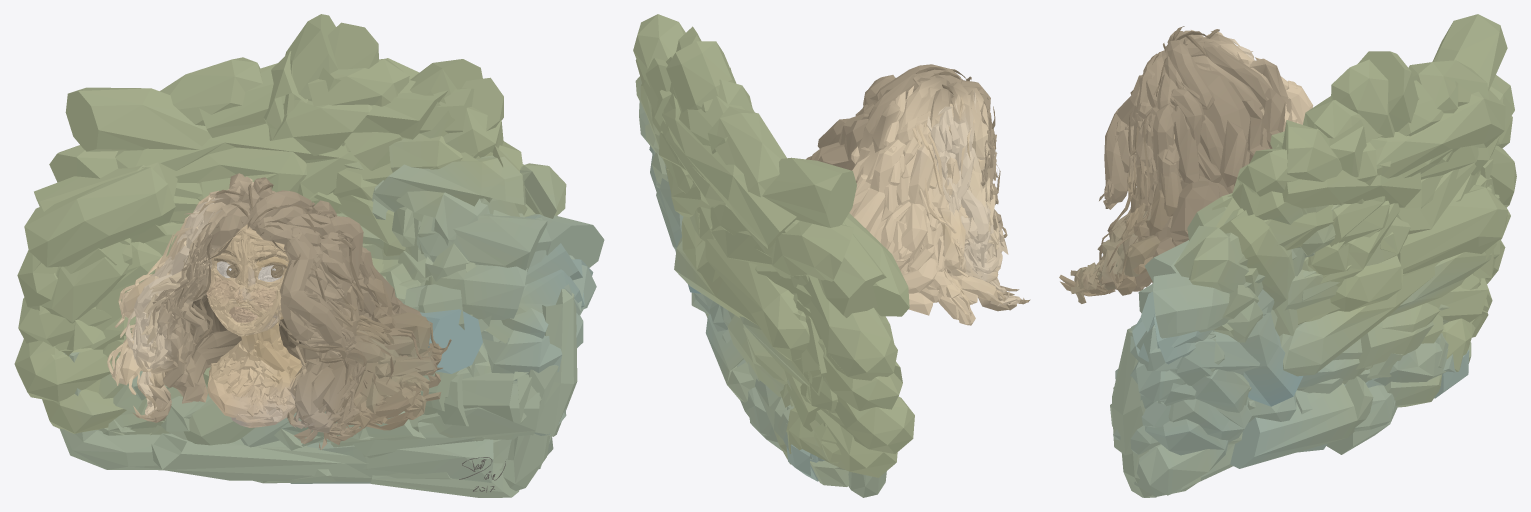
The picture shows the model from 3 angles, left to right: view 1: azimuth 30°, elevation 25°; view 2: azimuth 150°, elevation 25°; view 3: azimuth 270°, elevation 25°; orthographic projection. The views are drawn at different scales.
Visible parts, largest first — view 1: NewLayer3, NewLayer2; view 2: NewLayer3, NewLayer2; view 3: NewLayer3, NewLayer2.
Part boxes in pixels (x1,y1,x2,y2): NewLayer3: (14,14,604,497); NewLayer2: (107,173,451,449); NewLayer3: (633,14,914,497); NewLayer2: (806,64,1030,325); NewLayer3: (1110,14,1516,497); NewLayer2: (1059,26,1313,303).
Size of the model in its own units: 0.7684 by 0.7111 by 0.6867.
